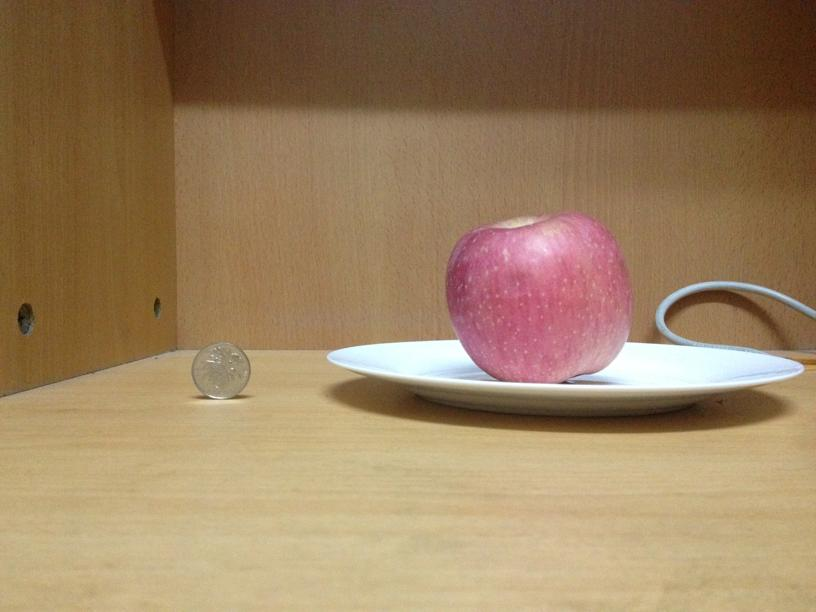apple: (447, 208, 634, 383)
coin: (193, 341, 253, 399)
